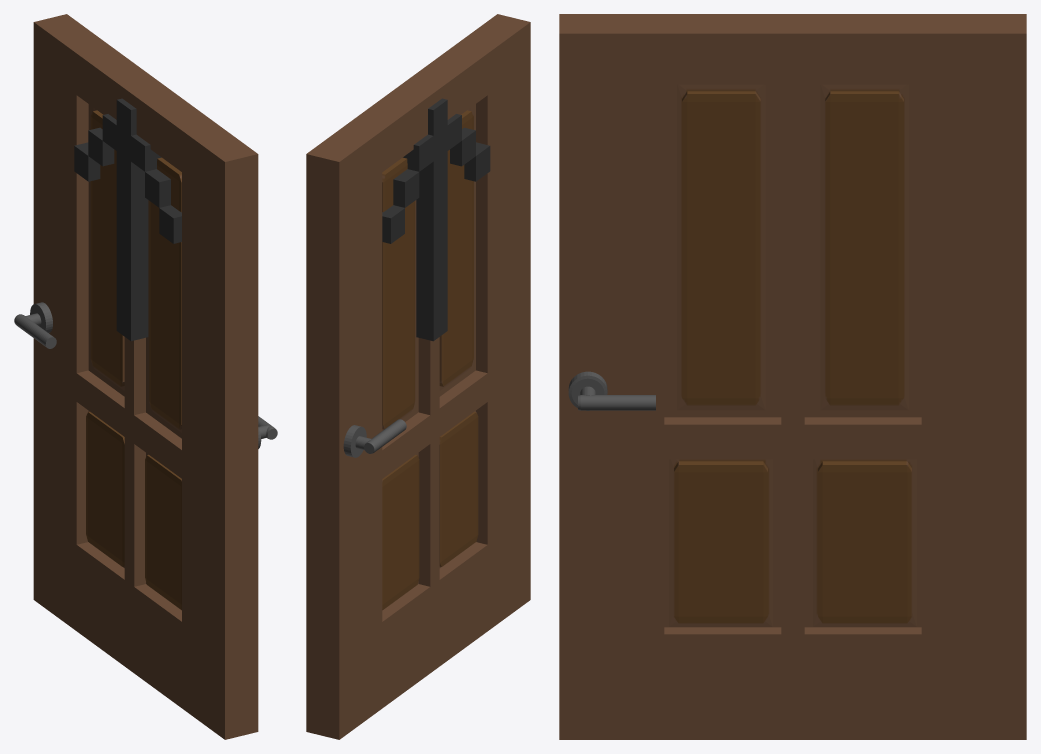
The model's file is Door_Up.glb.
The picture shows the model from 3 angles, left to right: view 1: azimuth 30°, elevation 25°; view 2: azimuth 150°, elevation 25°; view 3: azimuth 270°, elevation 25°; orthographic projection. The views are drawn at different scales.
Visible parts, largest first — view 1: Cube, Cube.001, Cylinder.004; view 2: Cube, Cube.001, Cylinder.004, Cylinder.005; view 3: Cube, Cylinder.002, Cylinder.
Boxes of the visible parts, left/top/right/bottom form: Cube: left=33, top=14, right=258, bottom=739; Cube.001: left=74, top=98, right=181, bottom=341; Cylinder.004: left=14, top=314, right=56, bottom=348; Cube: left=306, top=14, right=530, bottom=739; Cube.001: left=382, top=98, right=490, bottom=341; Cylinder.004: left=364, top=419, right=406, bottom=453; Cylinder.005: left=343, top=425, right=366, bottom=457; Cube: left=559, top=14, right=1026, bottom=739; Cylinder.002: left=578, top=395, right=655, bottom=410; Cylinder: left=568, top=371, right=607, bottom=410.
Size of the model in its own units: 0.4 by 2.5 by 1.5.
Materials: 8 (7 with a texture image).
